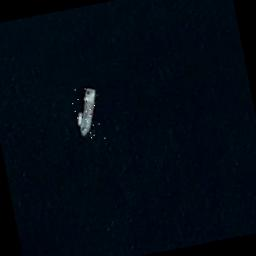boat: (79, 87, 100, 143), (76, 111, 83, 128)
